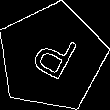P_SW: (24, 27, 80, 88)
